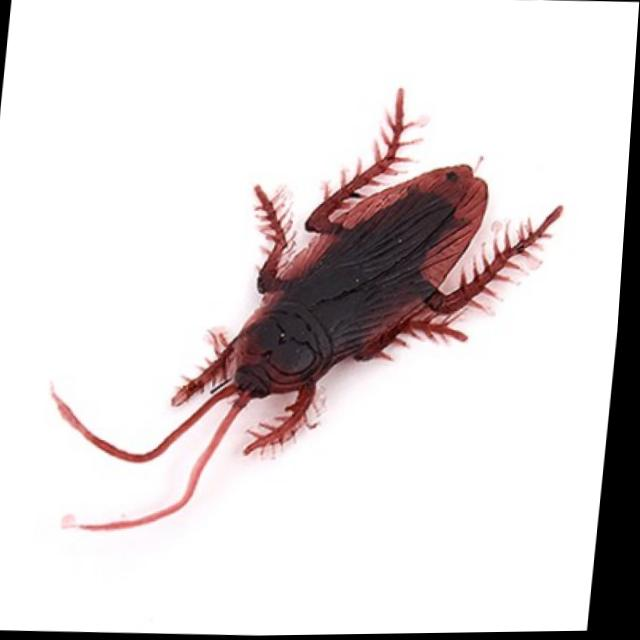Cockroach: (25, 49, 637, 572)
